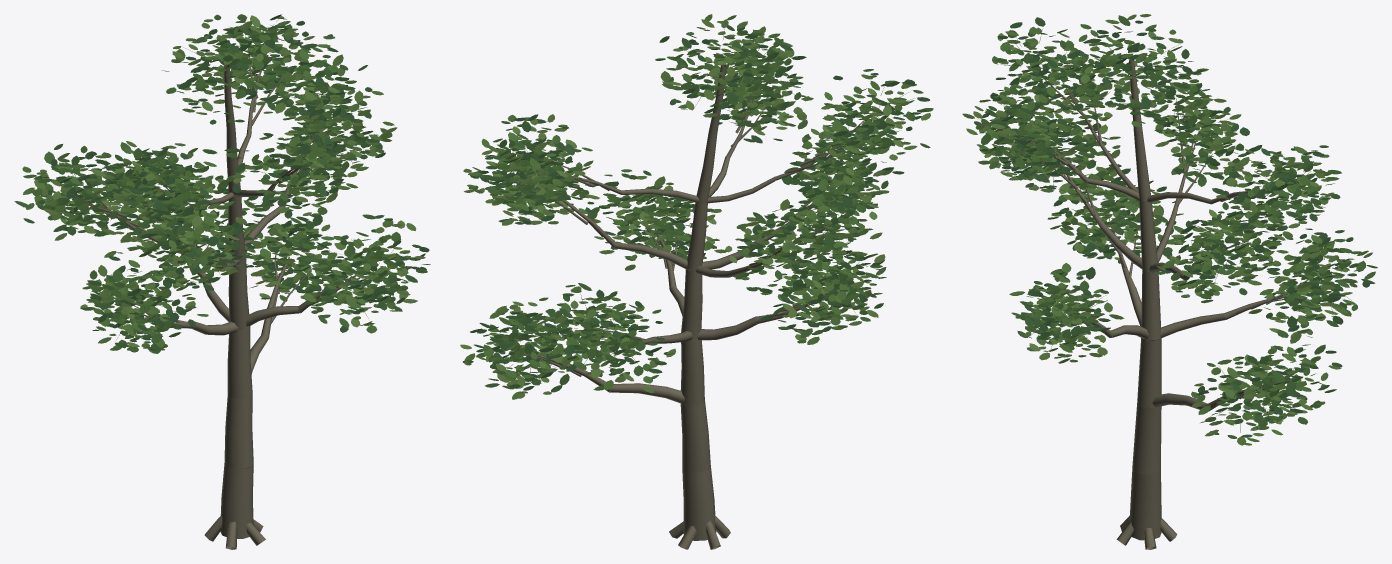
File: Chene_1_High.fbx
3 views of the same model, side by side, from view 1: azimuth 30°, elevation 25°; view 2: azimuth 150°, elevation 25°; view 3: azimuth 270°, elevation 25° (orthographic). The views are drawn at different scales.
Visible parts, largest first — view 1: Chene_1_High; view 2: Chene_1_High; view 3: Chene_1_High.
Part boxes in pixels (<box>): Chene_1_High: <box>14,14,430,549</box>; Chene_1_High: <box>460,14,933,549</box>; Chene_1_High: <box>962,14,1377,549</box>.
Bounding box in the file's own units: 637 × 813 × 598.
